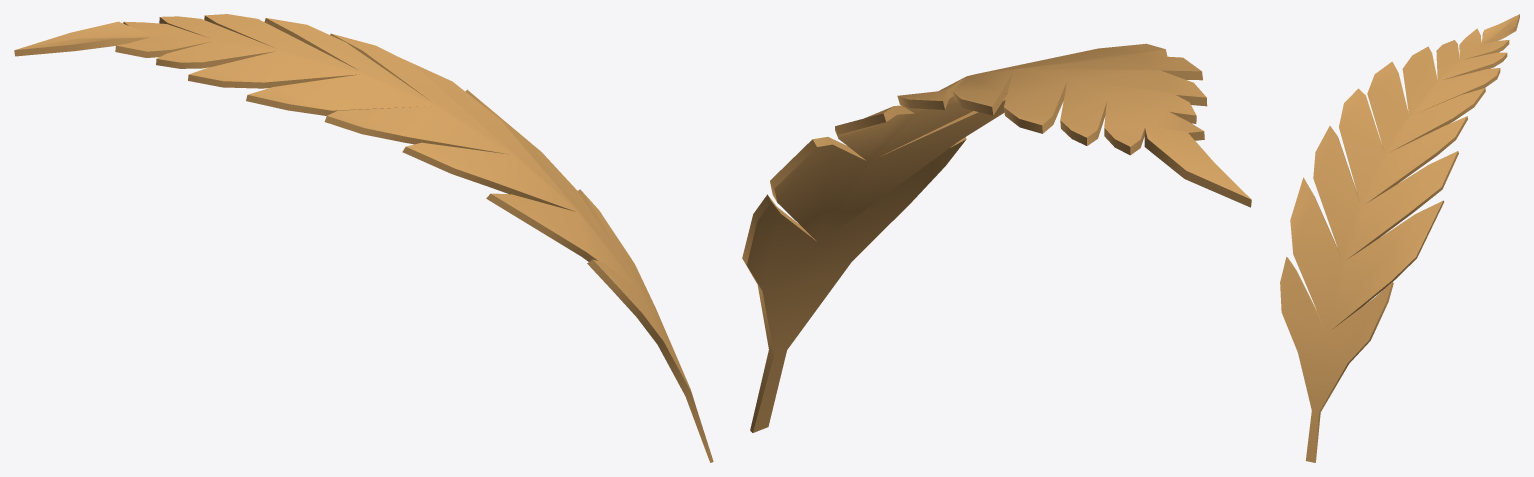
Rendered from Weed_Leave.fbx.
3 renders of one model, left to right at view 1: azimuth 30°, elevation 25°; view 2: azimuth 150°, elevation 25°; view 3: azimuth 270°, elevation 25°, orthographic. The views are drawn at different scales.
Parts seen in each view (by area): view 1: Weed_Leave; view 2: Weed_Leave; view 3: Weed_Leave.
Boxes of the visible parts, x1,y1,x2,y2 form: Weed_Leave: (14,14,713,462); Weed_Leave: (742,43,1251,432); Weed_Leave: (1280,14,1519,462).
Size of the model in its own units: 11.3 by 8.77 by 6.64.
